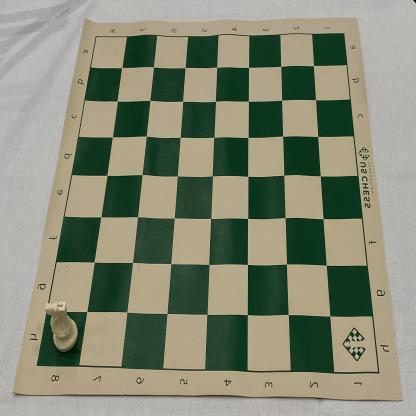white-knight: (44, 300, 78, 354)
